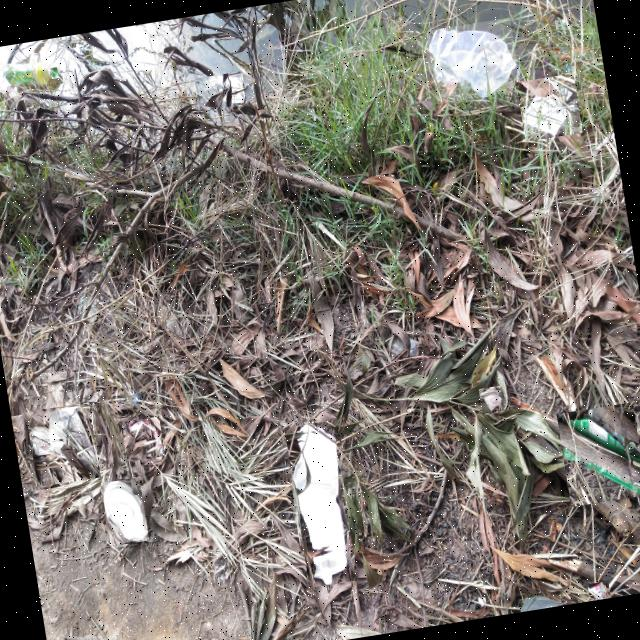Clear plastic bottle: (4, 62, 59, 85)
Foam food container: (293, 425, 347, 585)
Other plastic: (565, 410, 640, 496), (590, 583, 611, 599)
Plastic bottle cap: (130, 390, 139, 404), (51, 69, 58, 78)
Plastic film: (430, 29, 518, 97), (31, 407, 99, 478), (196, 76, 247, 106), (123, 421, 165, 457)
Plastic lid: (104, 482, 148, 542)
Plastic straw: (556, 21, 574, 88)
Unlabeled litter: (523, 77, 578, 136), (480, 388, 502, 411)
